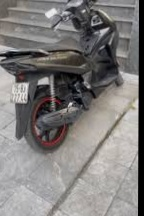Bien-so: (12, 84, 33, 105)
